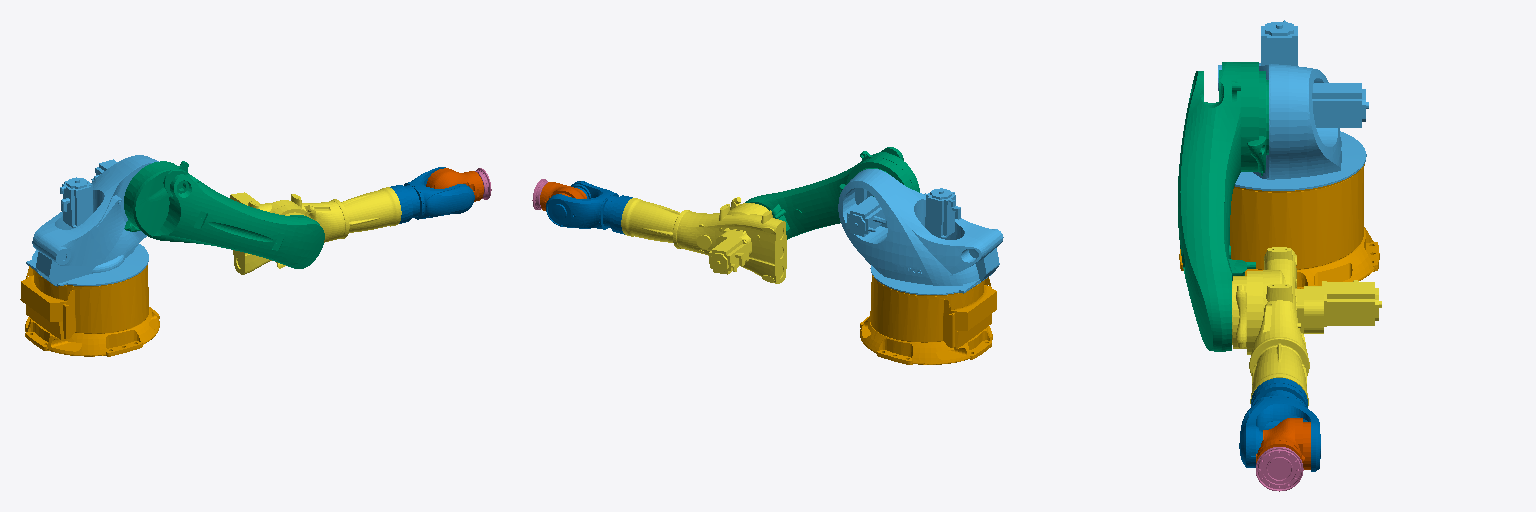
robot.urdf — KUKA KR480 R3330 MT:
<?xml version="1.0" ?>
<robot name="KUKA KR480 R3330 MT">
    <!-- Properties -->
    <material name="kuka_gray">
        <color rgba="0.4 0.4 0.4 1" />
    </material>
    <material name="kuka_organge">
        <color rgba="0.96 0.65 0.14 1" />
    </material>
    <!-- link list -->
    <link name="base_link">
        <visual>
            <geometry>
                <mesh filename="visual/base_link.stl" material_name="kuka_gray"/>
            </geometry>
        </visual>
    </link>
    <link name="link1">
        <visual>
            <geometry>
                <mesh filename="visual/link_1.stl" material_name="kuka_organge"/>
            </geometry>
        </visual>
    </link>
    <link name="link2">
        <visual>
            <geometry>
                <mesh filename="visual/link_2.stl" material_name="kuka_organge"/>
            </geometry>
        </visual>
    </link>
    <link name="link3">
        <visual>
            <geometry>
                <mesh filename="visual/link_3.stl" material_name="kuka_organge"/>
            </geometry>
        </visual>
    </link>
    <link name="link4">
        <visual>
            <geometry>
                <mesh filename="visual/link_4.stl" material_name="kuka_organge"/>
            </geometry>
        </visual>
    </link>
    <link name="link5">
        <visual>
            <geometry>
                <mesh filename="visual/link_5.stl" material_name="kuka_organge"/>
            </geometry>
        </visual>
    </link>
    <link name="link6">
        <visual>
            <geometry>
                <mesh filename="visual/link_6.stl" material_name="kuka_organge"/>
            </geometry>
        </visual>
    </link>
    <link name="ee_link"/>
    <!-- end of link list -->
    <!-- joint list -->
    <joint name="joint1" type="revolute">
        <parent link="base_link"/>
        <child link="link1"/>
        <origin xyz="0 0 0" rpy="0 0 0" />
        <axis xyz="0 0 -1" />
        <limit lower="-185" upper="185" velocity="45"/>
    </joint>
    <joint name="joint2" type="revolute">
        <parent link="link1"/>
        <child link="link2"/>
        <origin xyz="0.5 0 1.045" rpy="0 90 0" />
        <axis xyz="0 1 0" />
        <limit lower="-130" upper="20" velocity="45"/>
    </joint>
    <joint name="joint3" type="revolute">
        <parent link="link2"/>
        <child link="link3"/>
        <origin xyz="0 0 1.3" rpy="0 -90 0" />
        <axis xyz="0 1 0" />
        <limit lower="-100" upper="144" velocity="45"/>
    </joint>
    <joint name="joint4" type="revolute">
        <parent link="link3"/>
        <child link="link4"/>
        <origin xyz="1.525 0 -0.055" rpy="0 0 0" />
        <axis xyz="-1 0 0" />
        <limit lower="-350" upper="350" velocity="90"/>
    </joint>
    <joint name="joint5" type="revolute">
        <parent link="link4"/>
        <child link="link5"/>
        <origin xyz="0 0 0" rpy="0 0 0" />
        <axis xyz="0 1 0" />
        <limit lower="-120" upper="120" velocity="83"/>
    </joint>
    <joint name="joint6" type="revolute">
        <parent link="link5"/>
        <child link="link6"/>
        <origin xyz="0 0 0" rpy="0 0 0" />
        <axis xyz="-1 0 0" />
        <limit lower="-350" upper="350" velocity="130"/>
    </joint>
    <joint name="joint_6_t-tool0" type="fixed">
        <origin xyz="0.29 0 0" rpy="0 90 0"/>
        <parent link="link6"/>
        <child link="ee_link"/>
    </joint>
    <!-- end of joint list -->
    <tcp xyz="0 0 0" rpy="0 0 0"/>

    <!-- home positions  -->
    <home_positions joints="0 -90 90 0 90 0" />

    <!-- Ortho-parallel Basis and a Spherical Wrist -->
    <opw_parameters>
        <c1>1.045</c1>
        <c2>1.3</c2>
        <c3>1.525</c3>
        <c4>0.29</c4>
        <a1>0.5</a1>
        <a2>0.055</a2>
        <b>0</b>
        <joint1 sign_correction="-1" offset="0"/>
        <joint2 sign_correction="1" offset="-90"/>
        <joint3 sign_correction="1" offset="0"/>
        <joint4 sign_correction="-1" offset="0"/>
        <joint5 sign_correction="1" offset="0"/>
        <joint6 sign_correction="-1" offset="0"/>
    </opw_parameters>
</robot>

--- Facts derived from the render (not from the file) ---
Views: 3 orthographic renders of the robot side by side, from view 1: azimuth 30°, elevation 25°; view 2: azimuth 150°, elevation 25°; view 3: azimuth 270°, elevation 25°.
Robot: KUKA KR480 R3330 MT — 8 links, 7 joints (6 revolute, 1 fixed); root link base_link; default pose: every joint at zero.
Links seen in each view (by area): view 1: link2, link1, base_link, link3, link4, link5; view 2: link1, base_link, link3, link2, link4, link5; view 3: link2, link1, base_link, link3, link4, link6, link5.
Link boxes in pixels (x1,y1,x2,y2): link2: (124,161,324,268); link1: (26,155,158,286); base_link: (20,265,159,356); link3: (230,187,401,274); link4: (390,167,474,223); link5: (426,168,483,201); link1: (838,169,1003,294); base_link: (860,275,996,364); link3: (621,197,786,283); link2: (745,147,919,239); link4: (546,181,632,234); link5: (540,182,586,210); link2: (1178,62,1268,351); link1: (1218,20,1368,190); base_link: (1179,164,1379,288); link3: (1232,247,1381,405); link4: (1239,378,1320,471); link6: (1256,447,1303,491); link5: (1256,418,1310,469).
Size in the robot's own frame: 4 by 1.07 by 1.36 metres.
7 mesh visuals loaded from 7 distinct referenced files (7 binary STL).